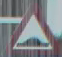Speed Breaker ahead: (6, 6, 53, 49)
